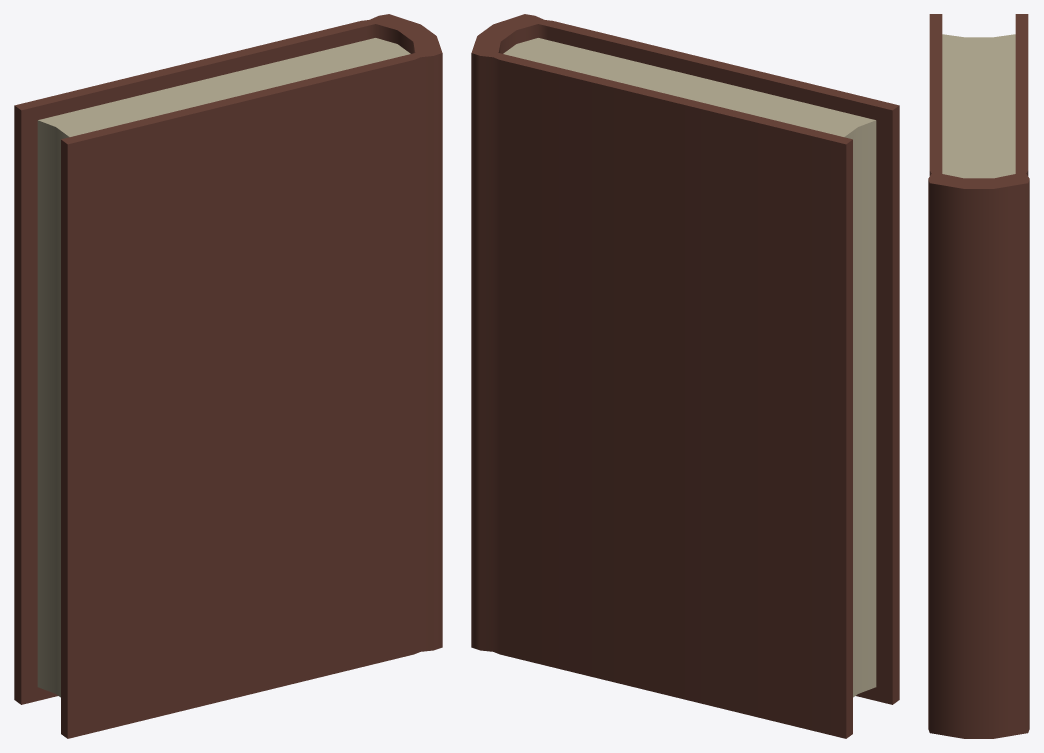
Rendered from Book_Small_Red.glb.
The picture shows the model from 3 angles, left to right: view 1: azimuth 30°, elevation 25°; view 2: azimuth 150°, elevation 25°; view 3: azimuth 270°, elevation 25°; orthographic projection. The views are drawn at different scales.
Visible parts, largest first — view 1: Book_Small_Red; view 2: Book_Small_Red; view 3: Book_Small_Red.
Part boxes in pixels (box(x1,y1,x2,y2)): Book_Small_Red: box(14, 14, 442, 738); Book_Small_Red: box(471, 14, 899, 738); Book_Small_Red: box(928, 14, 1029, 738).
Bounding box in the file's own units: 0.2569 × 0.3764 × 0.063.
Materials: 2 (2 with a texture image).
